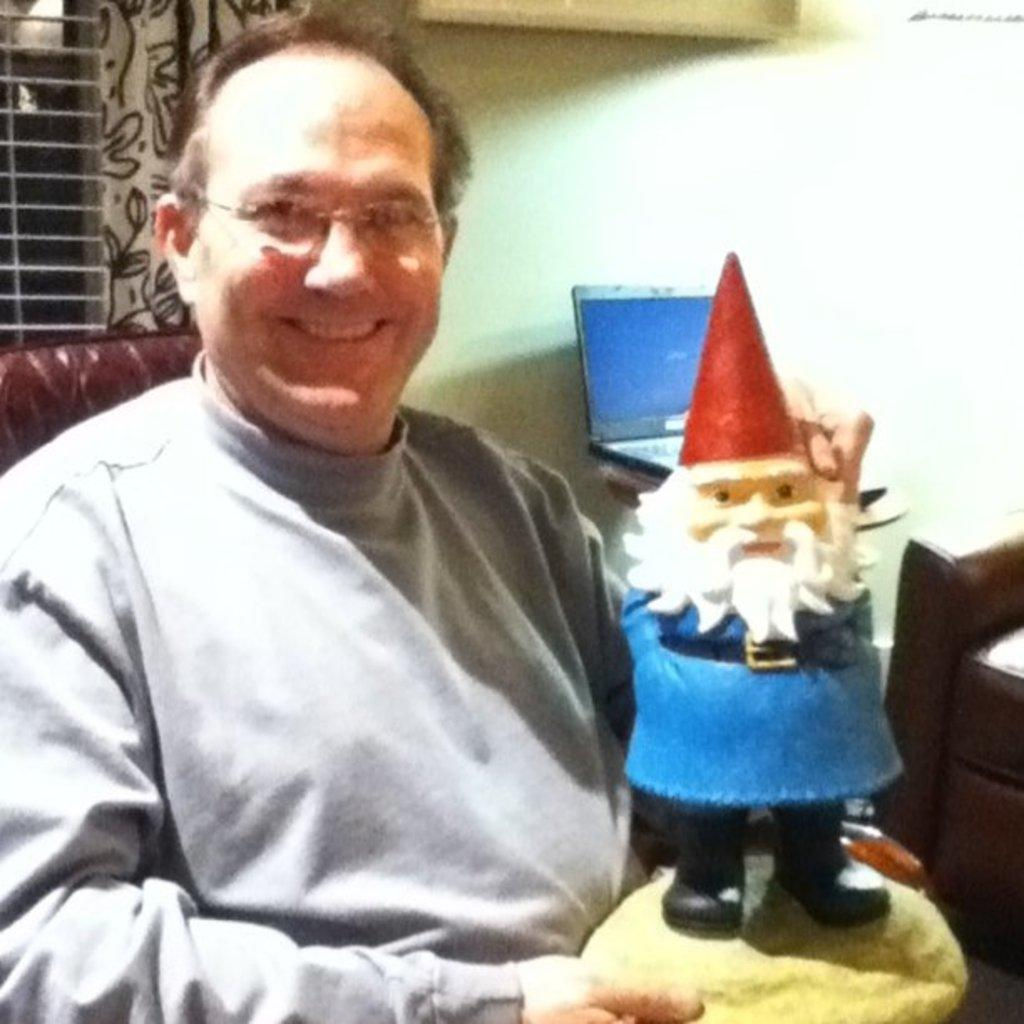Laptop: (587, 271, 708, 463)
